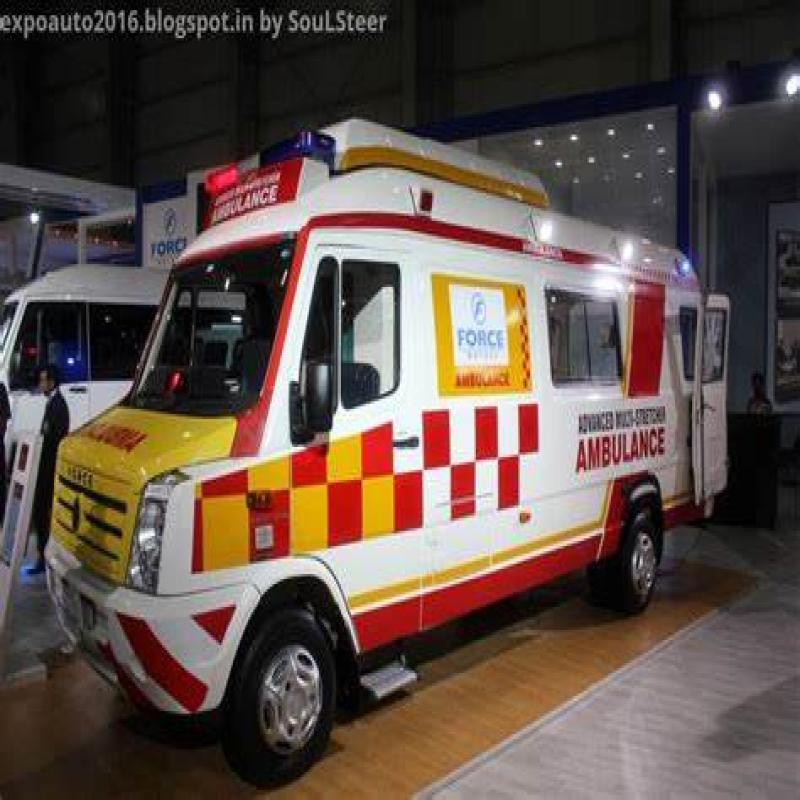AmbulanceSiren: (200, 112, 324, 189)
